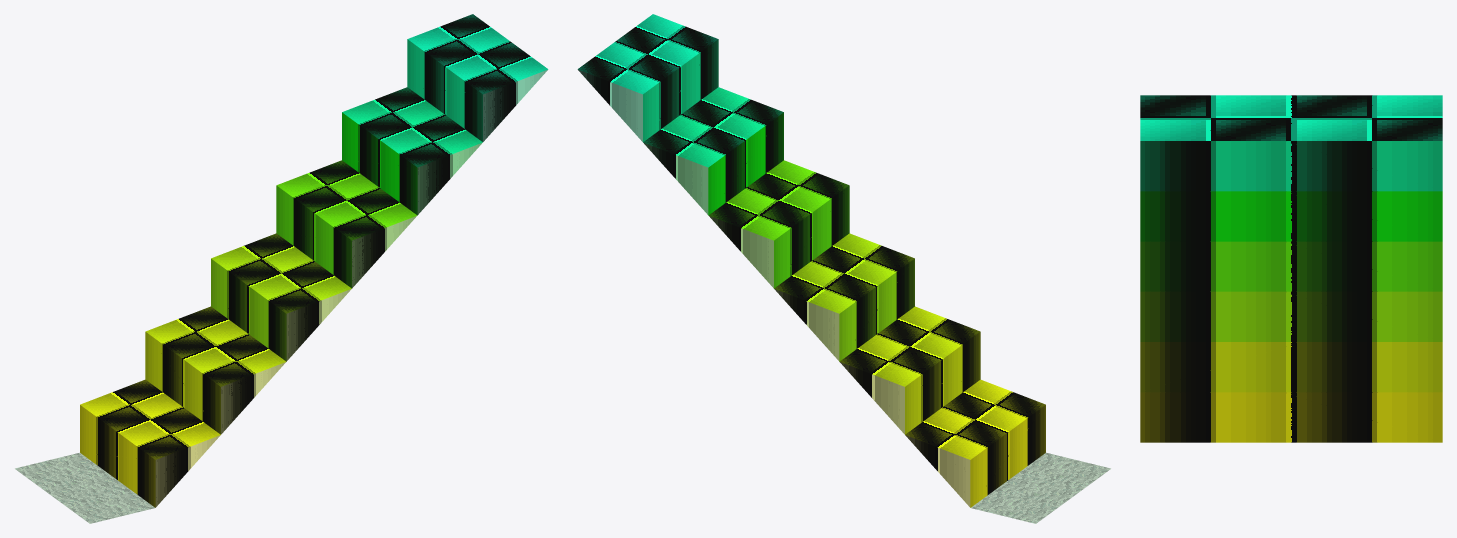
File: km3_dan1.glb
3 renders of one model, left to right at view 1: azimuth 30°, elevation 25°; view 2: azimuth 150°, elevation 25°; view 3: azimuth 270°, elevation 25°, orthographic. The views are drawn at different scales.
Parts seen in each view (by area): view 1: km3_dan1; view 2: km3_dan1; view 3: km3_dan1.
Boxes of the visible parts, left/top/right/bottom form: km3_dan1: left=15, top=14, right=548, bottom=523; km3_dan1: left=577, top=14, right=1110, bottom=523; km3_dan1: left=1140, top=95, right=1442, bottom=442.
Bounding box in the file's own units: 262 × 188 × 75.
Materials: 2 (2 with a texture image).
